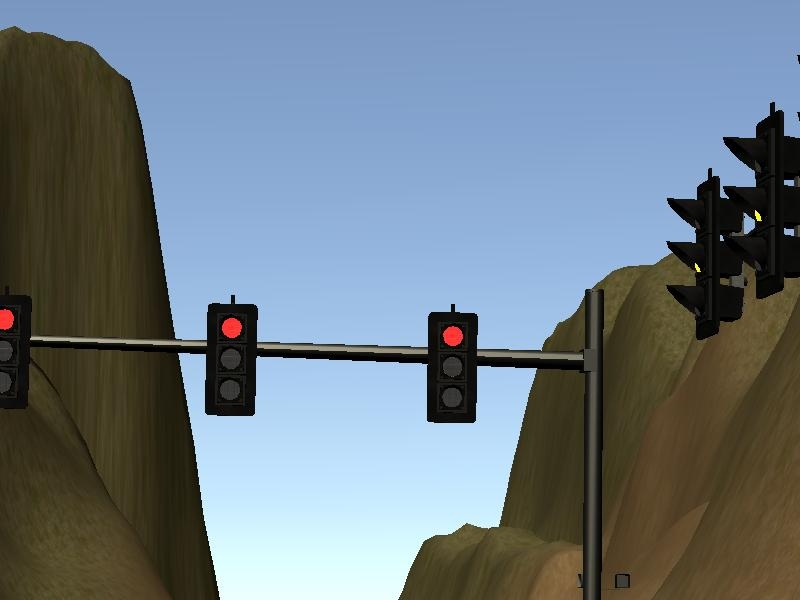RED: (204, 303, 257, 417), (425, 312, 479, 423)
